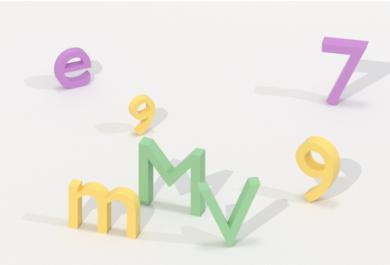7: (317, 32, 371, 109)
9: (289, 131, 345, 206), (125, 89, 157, 137)
M: (136, 135, 210, 219)
V: (198, 173, 263, 251)
e: (50, 42, 94, 92)
m: (65, 176, 144, 243)
